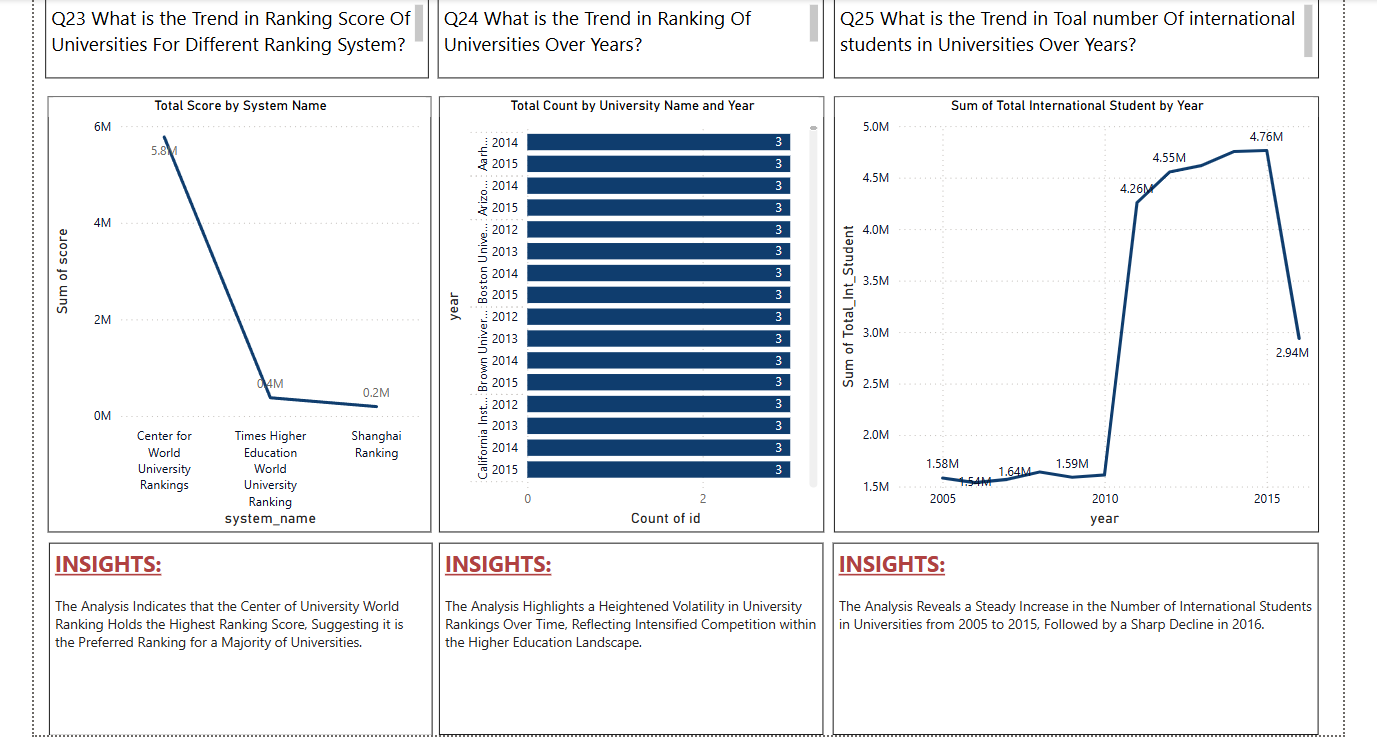

What the dashboard file says about the page in this screenshot:
{"tool":"powerbi","page":{"name":"Que23,24,25","canvas":[1280,720],"ordinal":12},"visuals":[{"type":"textbox","box":[10.5,0,375.6,77.9],"z":0},{"type":"lineChart","title":"Total Score by System Name","fields":{"Category":["ranking_system.system_name"],"Y":["Sum(university_ranking_year.score)"]},"box":[14,95.3,375.6,426.7],"z":1000},{"type":"textbox","box":[14.2,531.6,375.1,188.4],"z":2000},{"type":"textbox","box":[396,532,376,188],"z":3000},{"type":"textbox","box":[395.3,0,377.9,77.9],"z":4000},{"type":"lineChart","title":"Sum of Total International Student by Year","fields":{"Category":["university_ranking_year.year"],"Y":["Sum(university_year.Total_Int_Student)"]},"box":[782.6,95.3,474.4,426.7],"z":5000},{"type":"textbox","box":[782,532,475,188],"z":6000},{"type":"textbox","box":[782.6,0,474.4,77.9],"z":7000},{"type":"barChart","title":"Total Count by University Name and Year","fields":{"Category":["university.university_name","university_ranking_year.year"],"Y":["CountNonNull(ranking_system.id)"]},"box":[396.5,95.3,376.7,426.7],"z":8000}]}

Visuals, with their boxes on the page's 1280x720 design canvas (x1, y1, x2, y2). These are canvas units, not pixel positions in the 1377x738 screenshot, which may show the page scaled, cropped or inside an application window:
textbox: l=10, t=0, r=386, b=78
"Total Score by System Name" lineChart: l=14, t=95, r=390, b=522
textbox: l=14, t=532, r=389, b=720
textbox: l=396, t=532, r=772, b=720
textbox: l=395, t=0, r=773, b=78
"Sum of Total International Student by Year" lineChart: l=783, t=95, r=1257, b=522
textbox: l=782, t=532, r=1257, b=720
textbox: l=783, t=0, r=1257, b=78
"Total Count by University Name and Year" barChart: l=396, t=95, r=773, b=522
